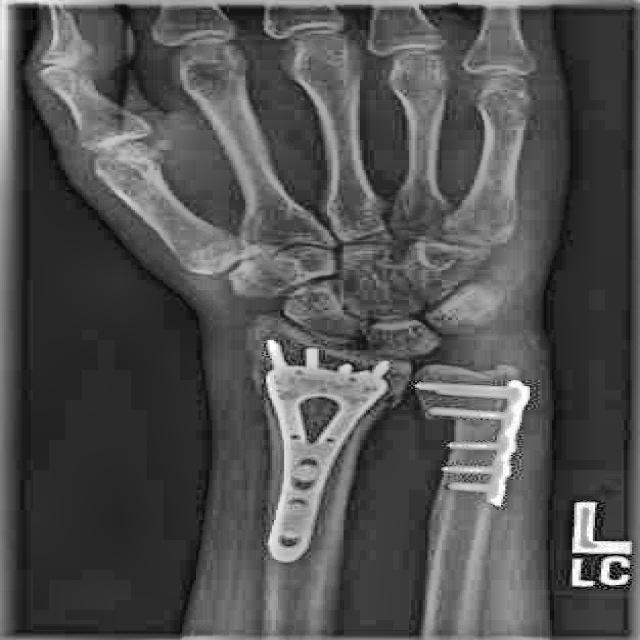fingers positive: (222, 330, 546, 435)
